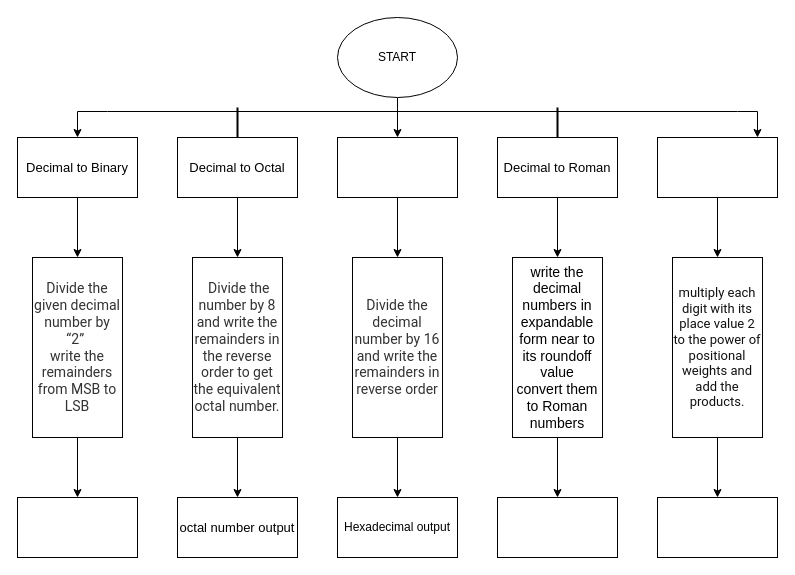
Image size: 795x575. Some labels were removed from this diagram. The box of each missing label's shape, as (x1, y1, x2, y2) in pixels:
binary number output: (16, 496, 138, 558)
Binary to Decimal: (656, 136, 778, 198)
Decimal number output: (656, 496, 778, 558)
Decimal to Hexadecimal: (336, 136, 458, 198)
Roman output: (496, 496, 618, 558)
